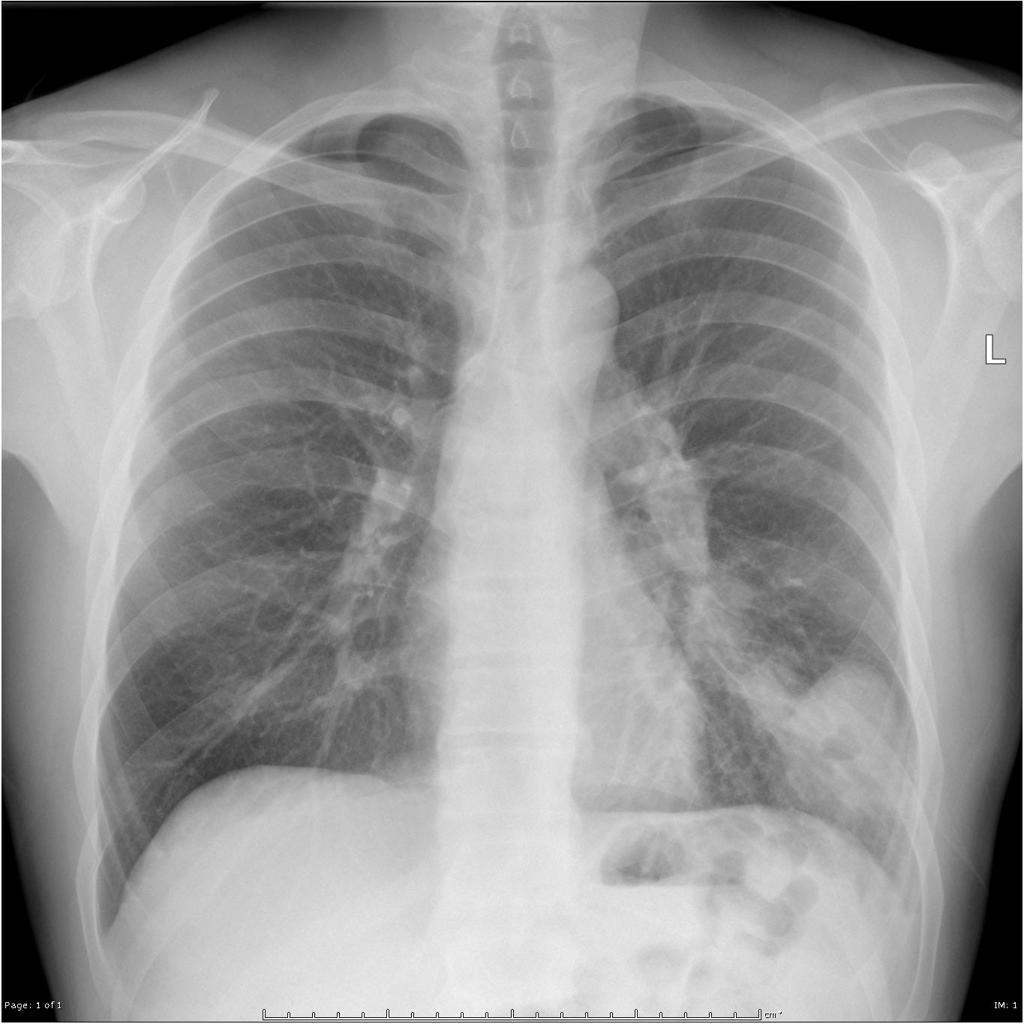cancer: (147, 139, 431, 847), (562, 209, 891, 780)
